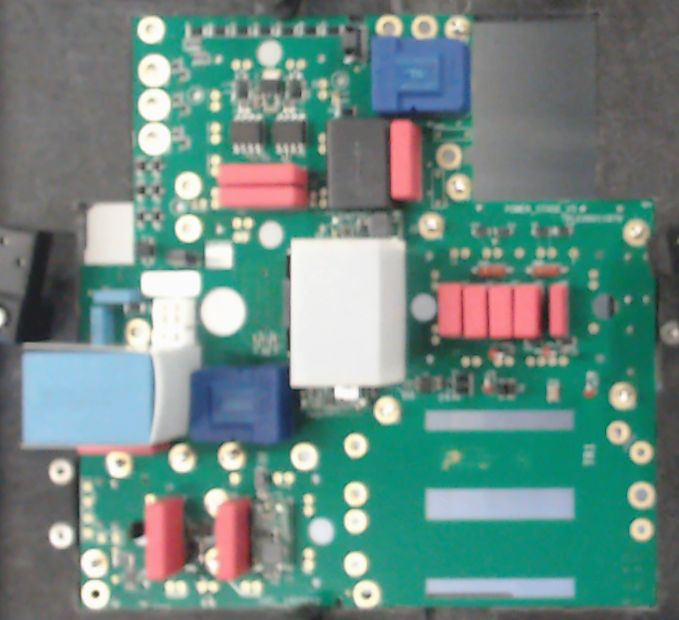comp1: (369, 32, 472, 117), (189, 369, 291, 446)
comp2: (143, 496, 186, 577), (214, 498, 252, 579), (390, 119, 423, 203), (215, 162, 310, 185), (215, 186, 308, 209), (514, 282, 543, 342), (436, 282, 464, 343), (461, 282, 488, 342), (487, 282, 513, 344), (548, 282, 570, 341)
comp3: (325, 117, 393, 213)
comp4: (21, 342, 198, 451), (290, 237, 405, 386)
